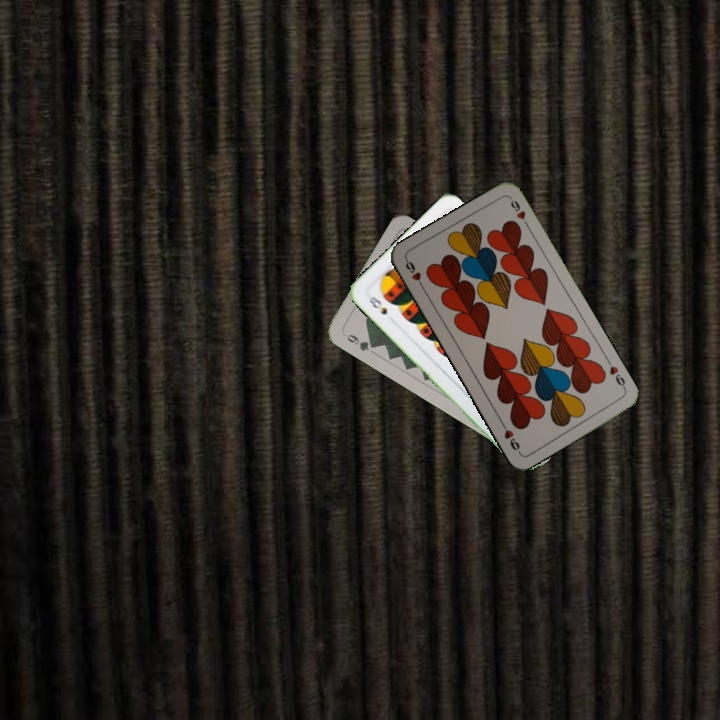G9: (339, 329, 378, 354)
H9: (401, 256, 427, 293), (603, 356, 629, 393)
S8: (362, 289, 390, 318)
